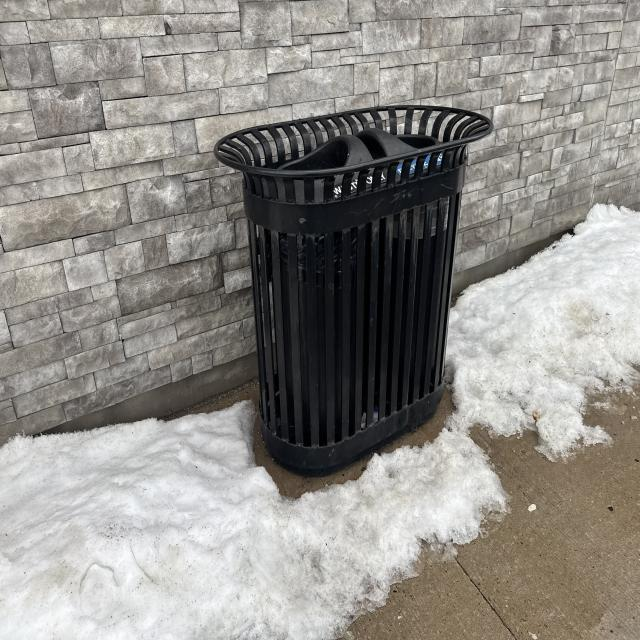Dustbin: (215, 106, 497, 482)
